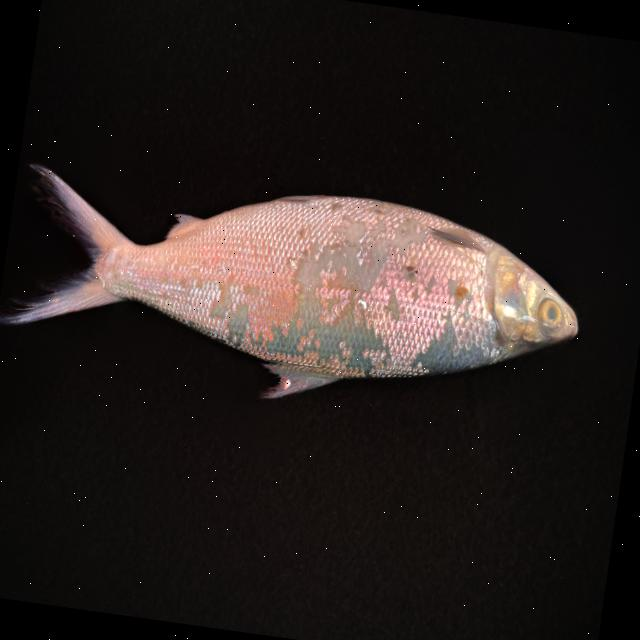1060 g: (0, 149, 592, 441)
